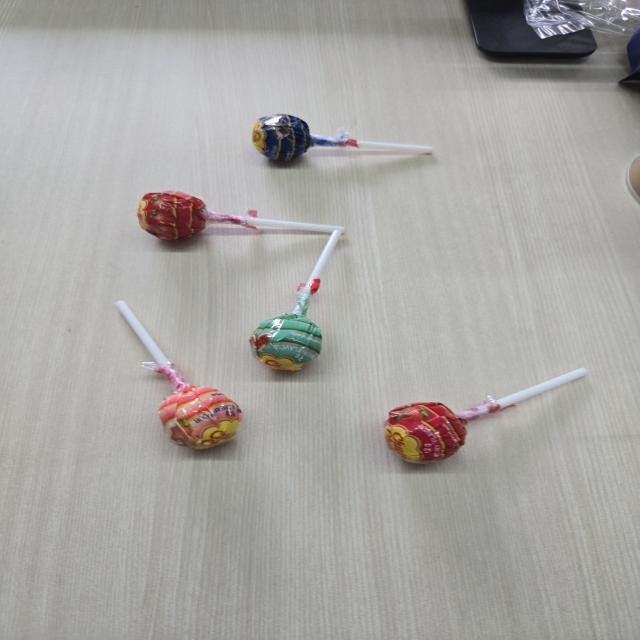lollipop: (382, 362, 592, 471), (111, 296, 246, 454), (248, 230, 344, 377), (132, 188, 348, 246), (249, 110, 433, 178)
